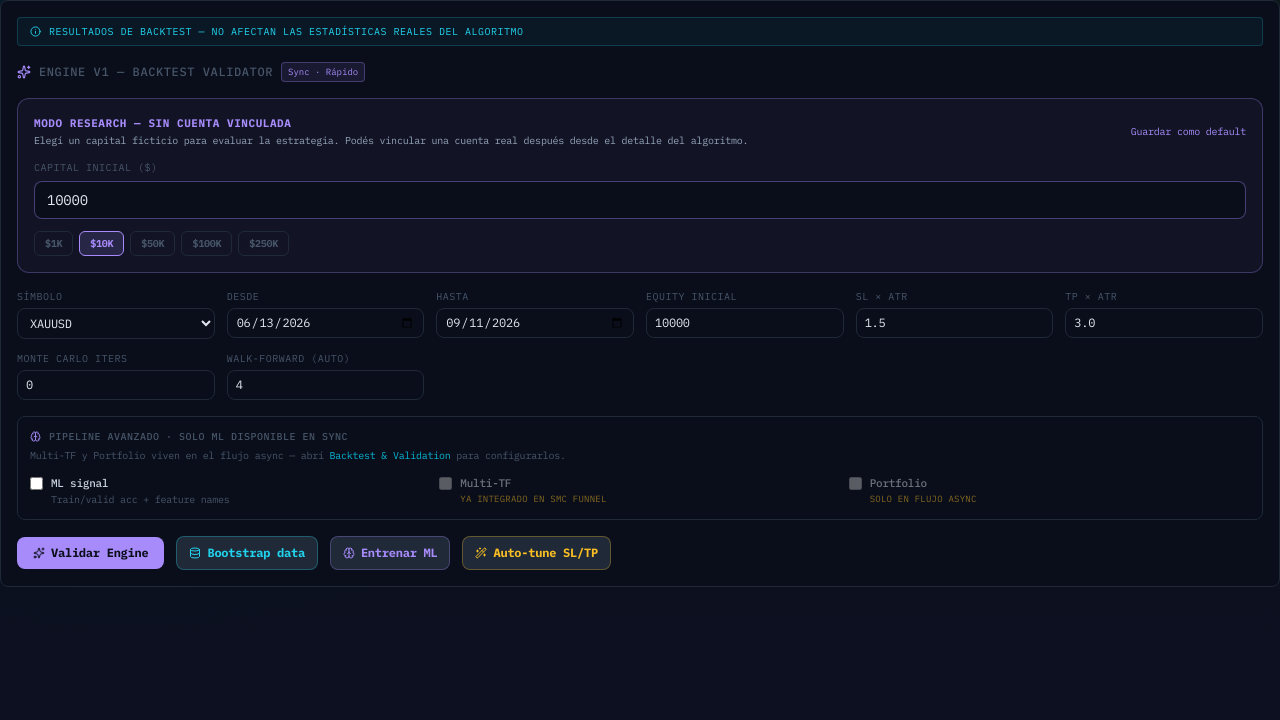
EngineBacktestPanel — research mode › changes the capital when a preset is clicked
Click the button "$100K" at point(207, 244), box [181, 231, 232, 256]
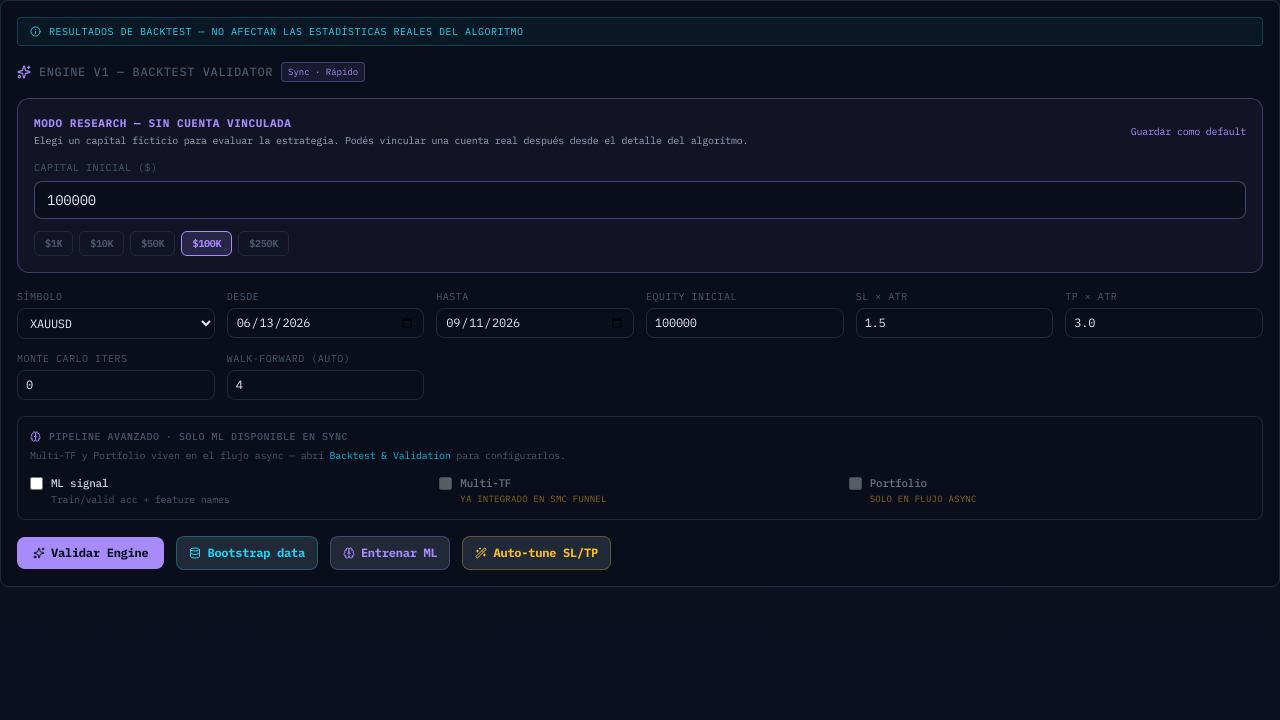
expect the number field showing "100000" below "Capital inicial ($)" is shown: met, box [34, 181, 1246, 219]
